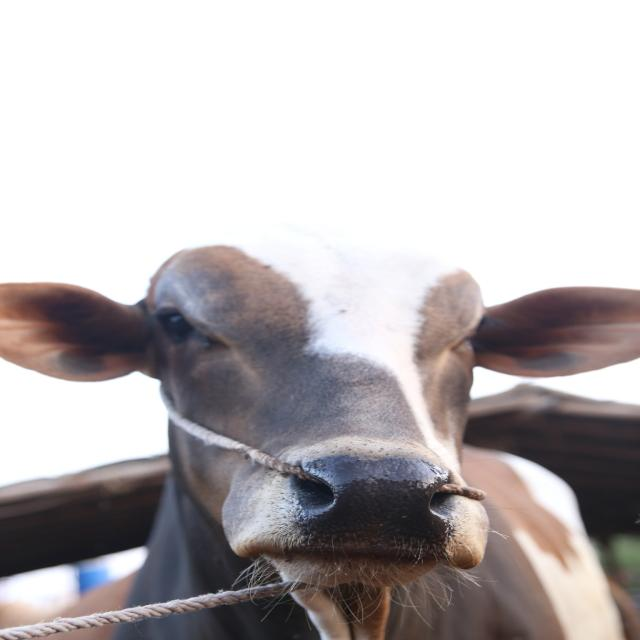muzzles: (288, 450, 472, 569)
